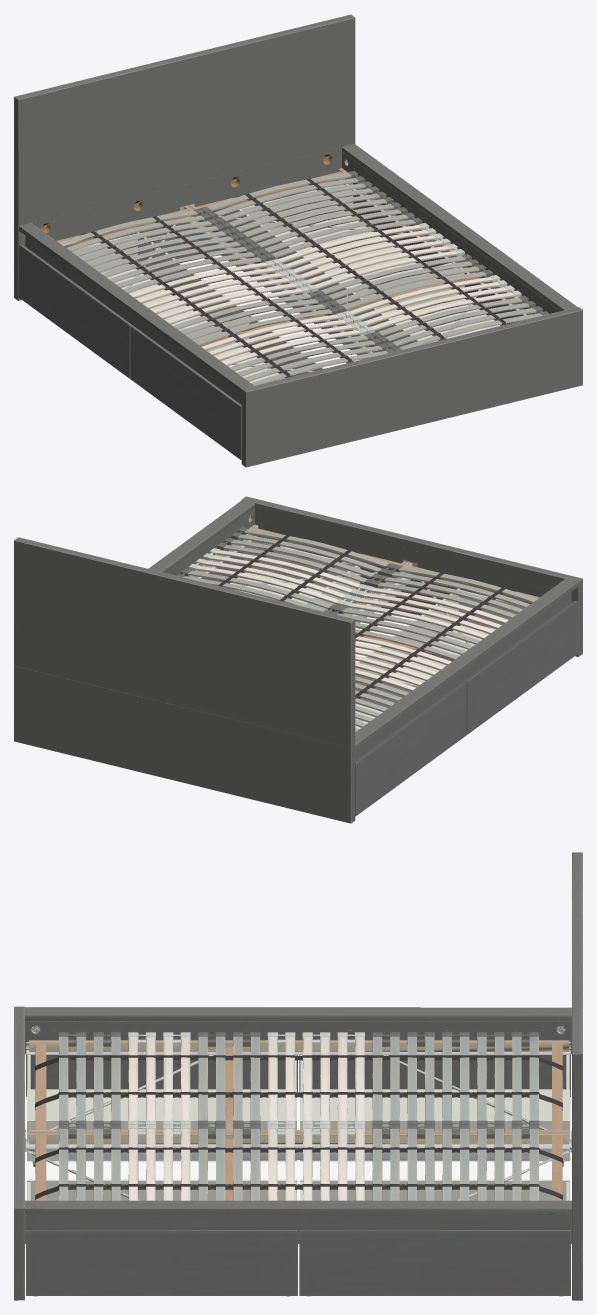
File: MALM_79002440.glb
The picture shows the model from 3 angles, top to bottom: view 1: azimuth 30°, elevation 25°; view 2: azimuth 150°, elevation 25°; view 3: azimuth 270°, elevation 25°; orthographic projection. The views are drawn at different scales.
Parts seen in each view (by area): view 1: Mesh_0; view 2: Mesh_0; view 3: Mesh_0.
Boxes of the visible parts, <box> form: Mesh_0: <box>14,14,582,467</box>; Mesh_0: <box>14,496,582,823</box>; Mesh_0: <box>14,852,582,1300</box>.
Bounding box in the file's own units: 1.75 × 1.01 × 2.09.
1 material, 1 textured.
